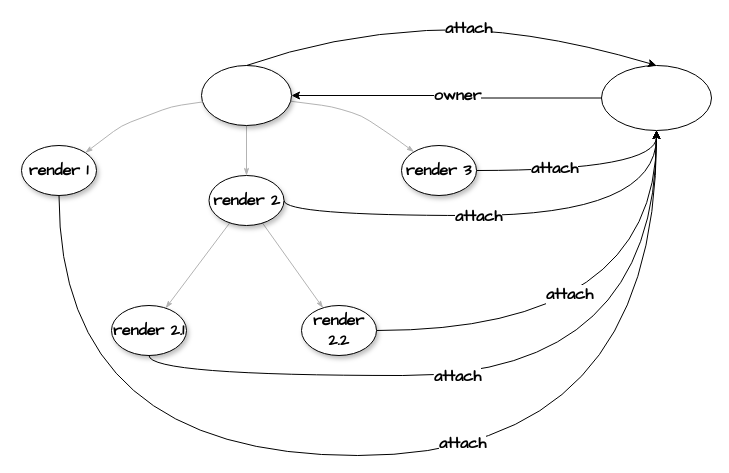
Some shapes in this 729 by 473 pixel diagram are drawn without their labels. The shapes that lost their labels are listed below. From the top down, each one's centre as x and y in pixels, then its label:
point 247,96: renderView
point 656,97: PipelineOwner
